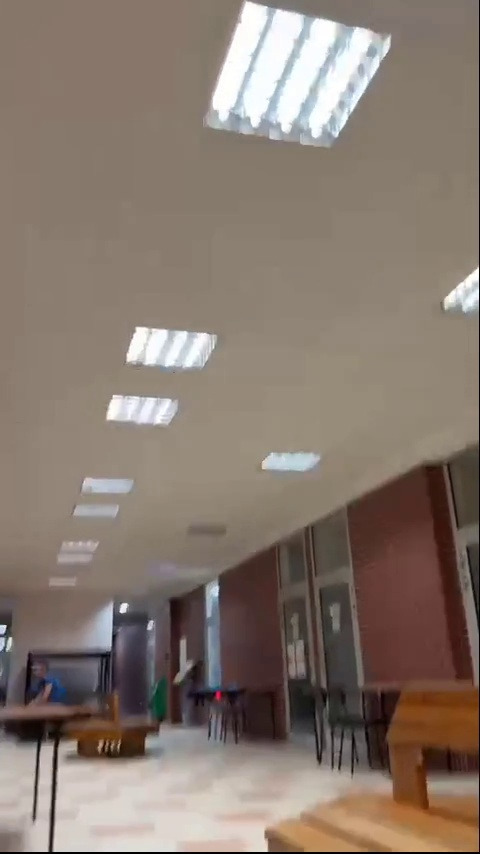drone: (191, 682, 246, 704)
no vest: (27, 657, 67, 715)
